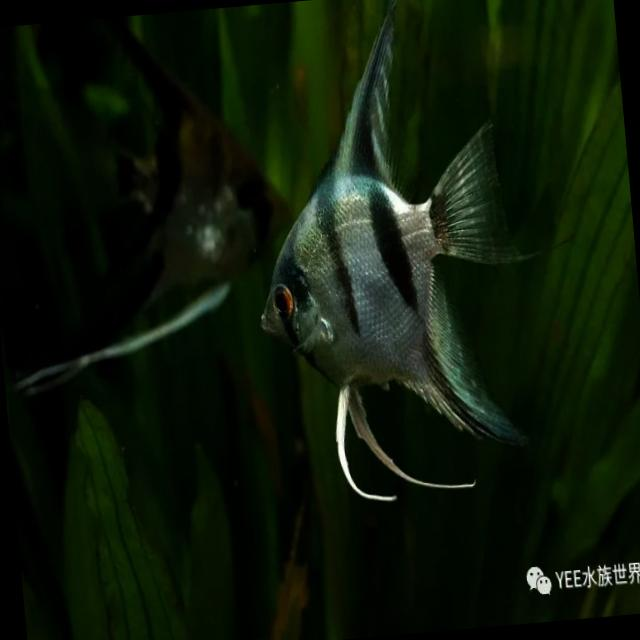AngelFish: (232, 0, 550, 521), (57, 12, 309, 400)
